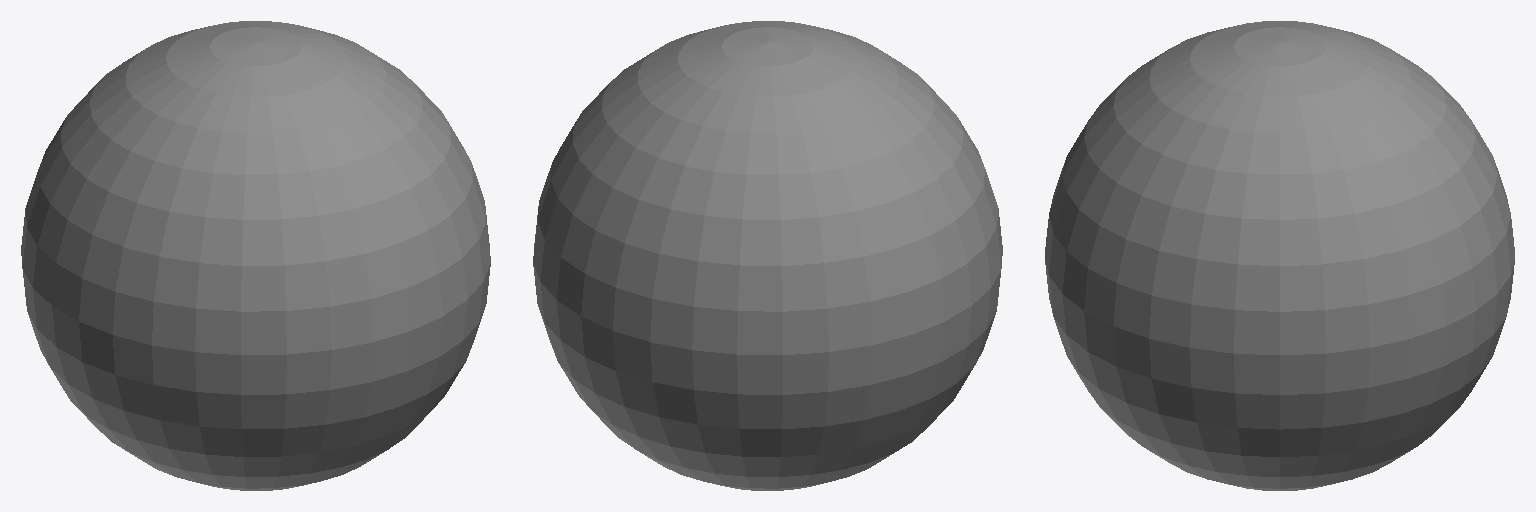
File: TestObject.obj
3 renders of one model, left to right at view 1: azimuth 30°, elevation 25°; view 2: azimuth 150°, elevation 25°; view 3: azimuth 270°, elevation 25°, orthographic.
Parts seen in each view (by area): view 1: Sphere001; view 2: Sphere001; view 3: Sphere001.
Part boxes in pixels (bbox=[...]): Sphere001: bbox=[21, 21, 490, 490]; Sphere001: bbox=[533, 21, 1002, 490]; Sphere001: bbox=[1045, 21, 1514, 490].
Size of the model in its own units: 100 by 100 by 100.